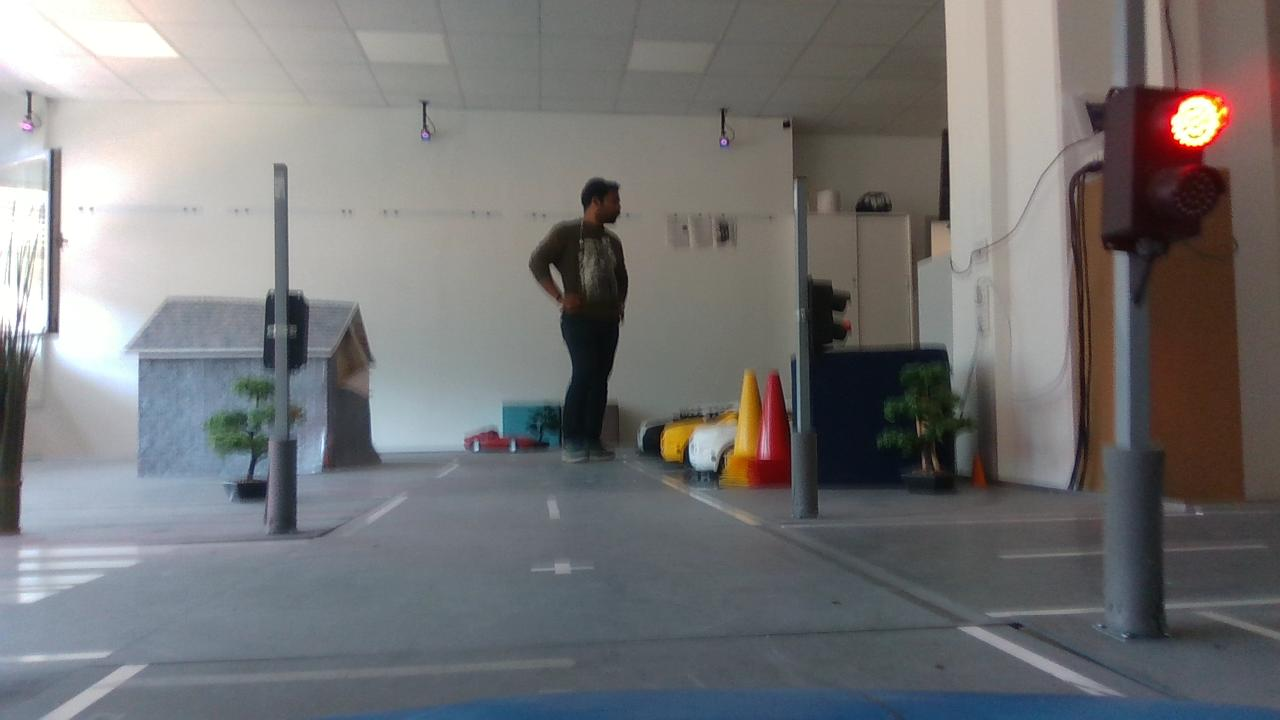traffic_light_red: (1090, 71, 1236, 277)
